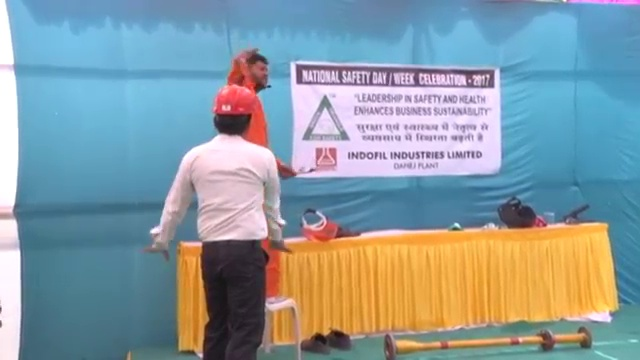helmet: (211, 84, 258, 117)
helmet_off: (244, 48, 272, 90)
helmet_on: (211, 84, 257, 139)
person: (149, 81, 298, 360), (220, 44, 307, 303)
